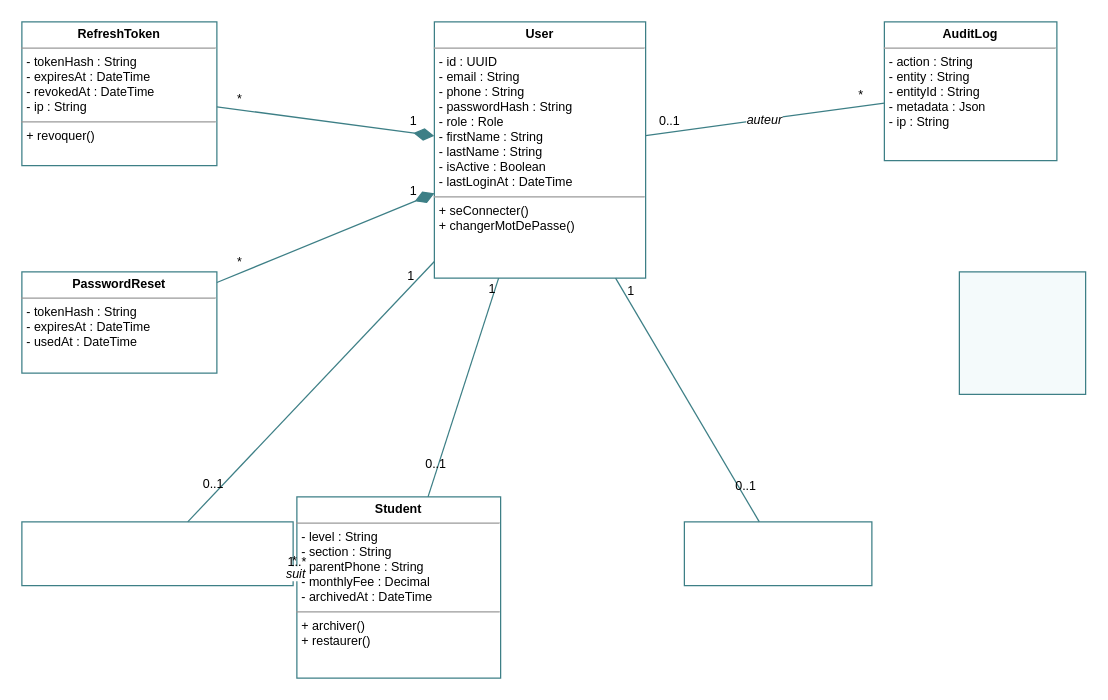
The diagram is 1108 pixels wide and 700 high, and some of its shapes have lost their labels. Each missing label, with the centre of its shape:
"Parent - notificationPreferences : Json" goes at [157,553].
"Teacher - subjects : String[]" goes at [777,553].
"«enumeration» Role ADMIN TEACHER STUDENT PARENT" goes at [1022,332].
